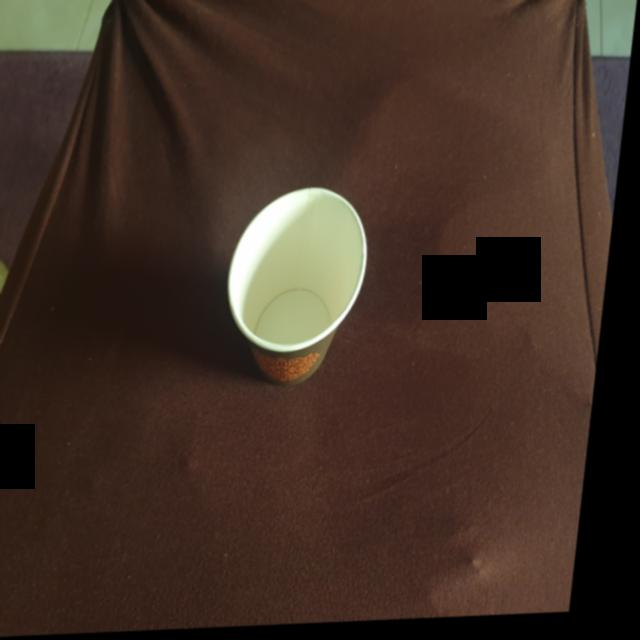cups: (221, 185, 384, 395)
